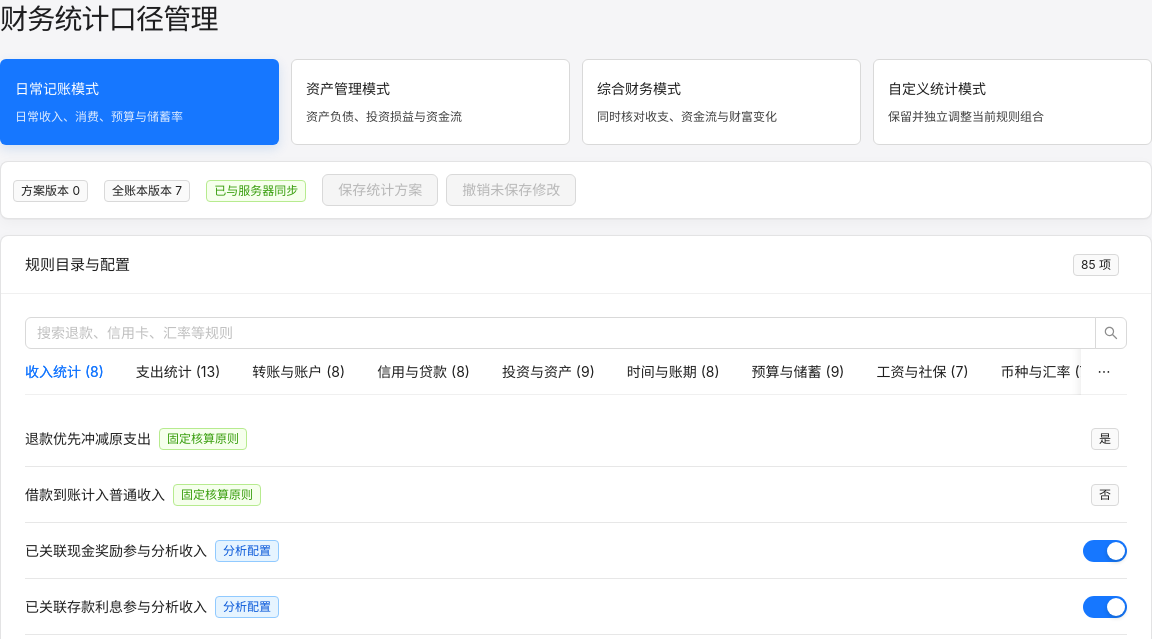
Test case: searches unsupported principles without offering a nonfunctional toggle
Check: the switch named "已关联现金奖励参与分析收入" is shown, box [1083,540,1127,562]
Type "折旧" into the search field named "搜索统计规则" at (552, 333), box [37,322,1068,344]
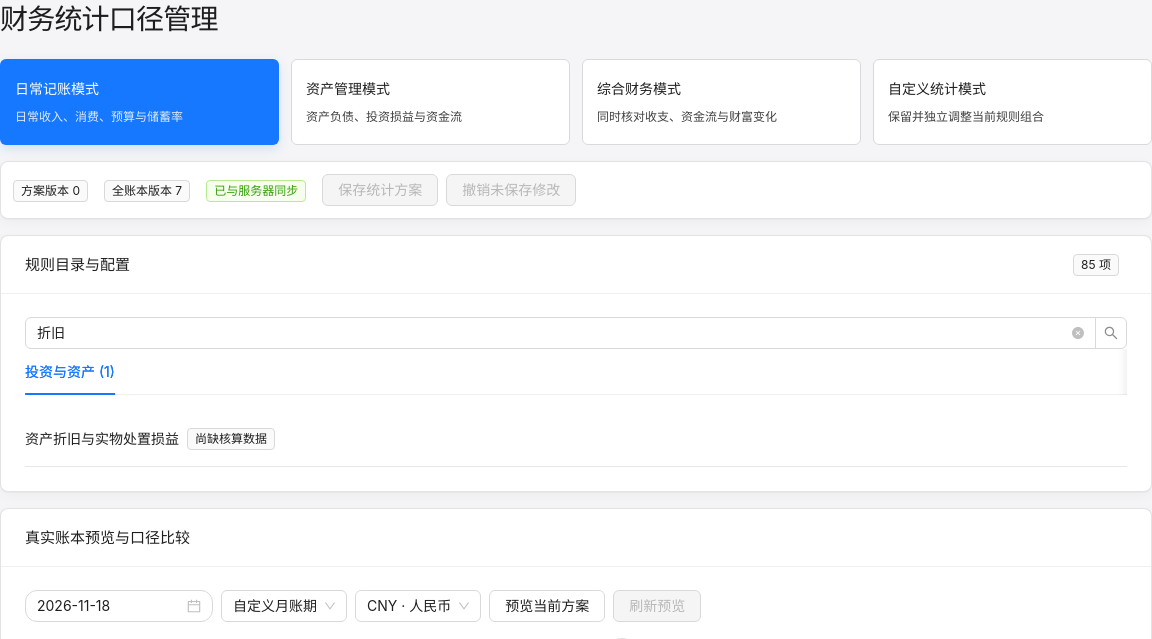
Check: the text "尚缺核算数据" is shown, box [187,428,275,450]
Check: the text "资产折旧与实物处置损益" is shown, box [25,430,179,447]
Check: the switch is gone
